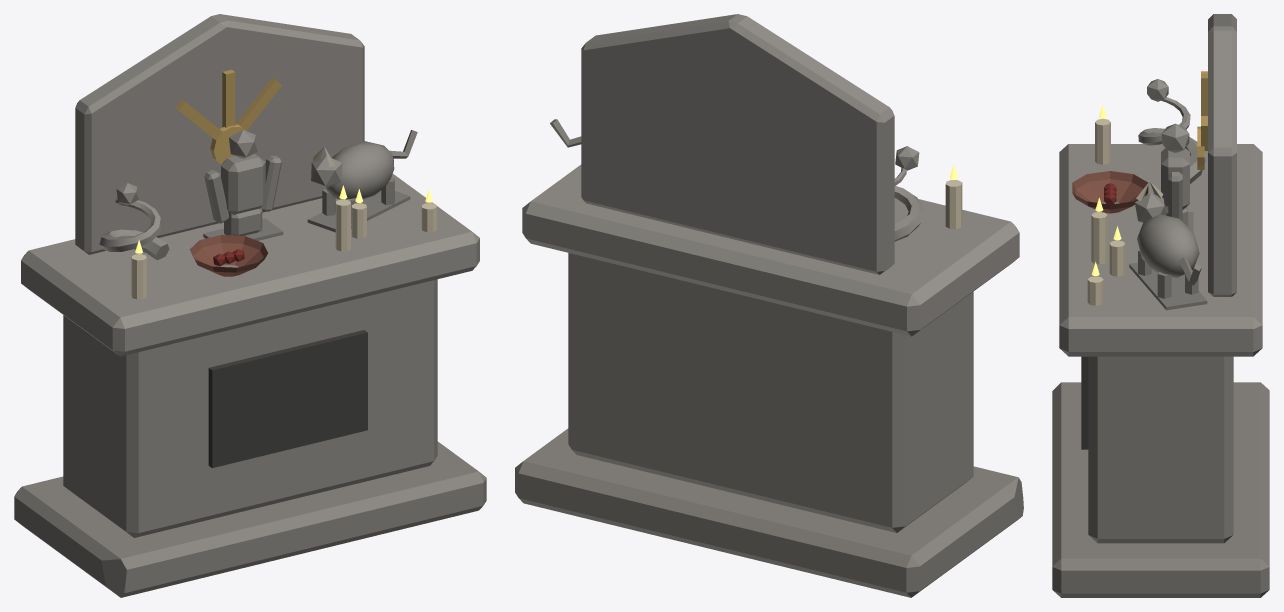
The model's file is shrine_small.glb.
The picture shows the model from 3 angles, left to right: view 1: azimuth 30°, elevation 25°; view 2: azimuth 150°, elevation 25°; view 3: azimuth 270°, elevation 25°; orthographic projection. The views are drawn at different scales.
Parts seen in each view (by area): view 1: shrine_small; view 2: shrine_small; view 3: shrine_small.
Boxes of the visible parts, x1=… form: shrine_small: x1=14, y1=14, x2=486, y2=597; shrine_small: x1=515, y1=14, x2=1023, y2=597; shrine_small: x1=1052, y1=14, x2=1269, y2=597.
Size of what is drawn, in the model's own units: 1.2 by 1.46 by 0.6.
